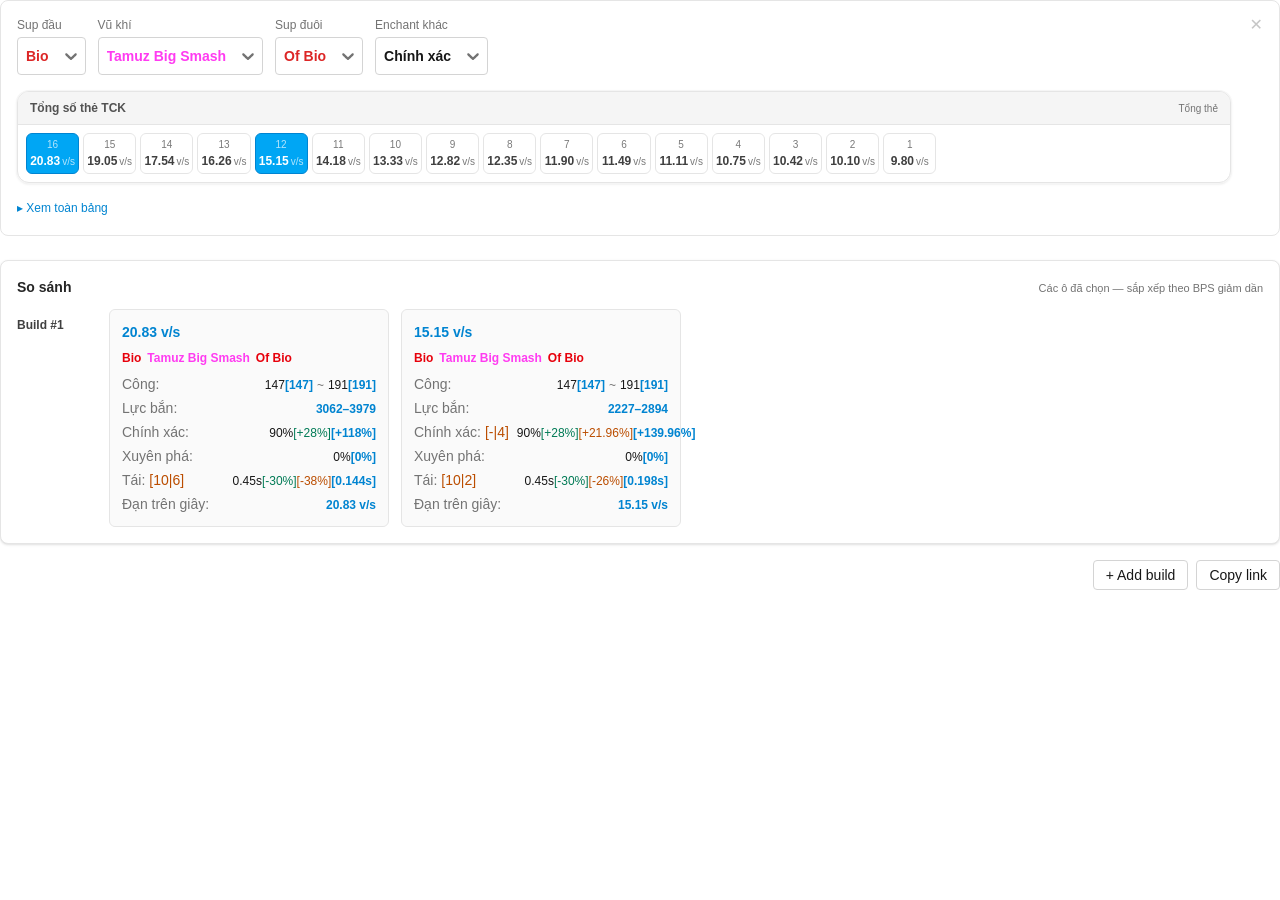
Test: BuildList › removes a build row when its remove button is clicked
Click the button "+ Add build" at (1141, 575), box [1093, 560, 1188, 590]
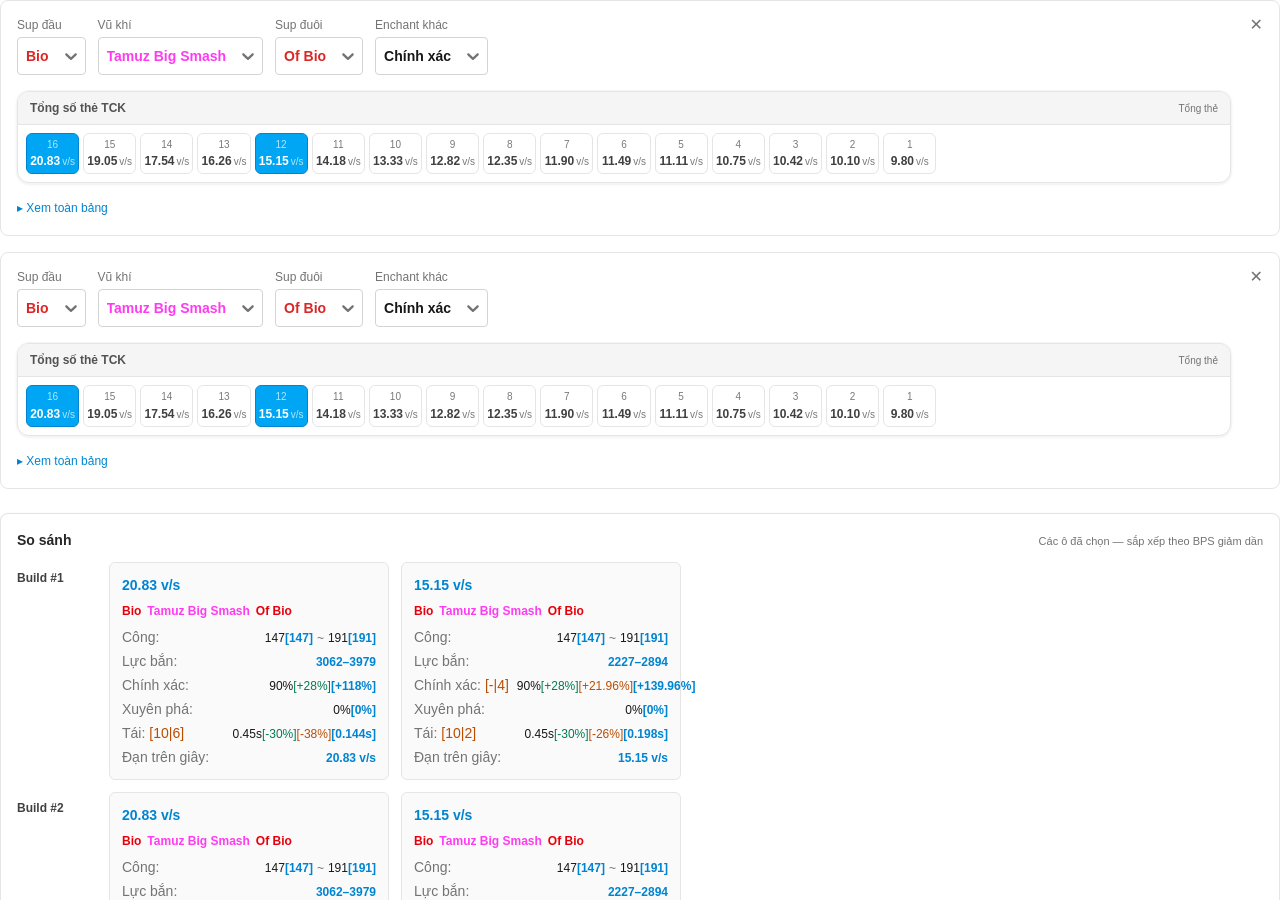
Click the button named "remove" at (1256, 25), box [1242, 9, 1271, 41]
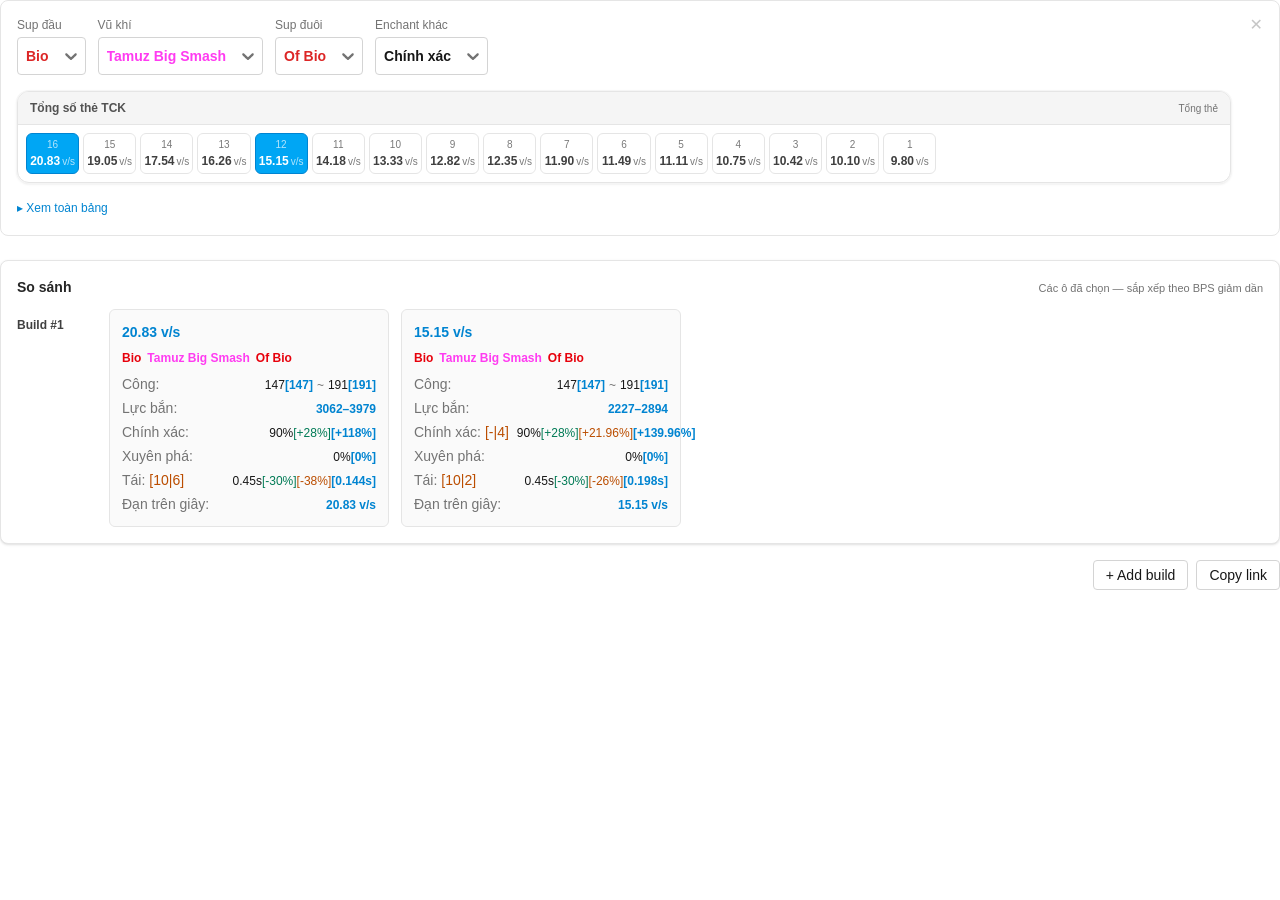
Result: the number of elements with test id "build-row" is 1 at [0, 0, 1279, 236]
